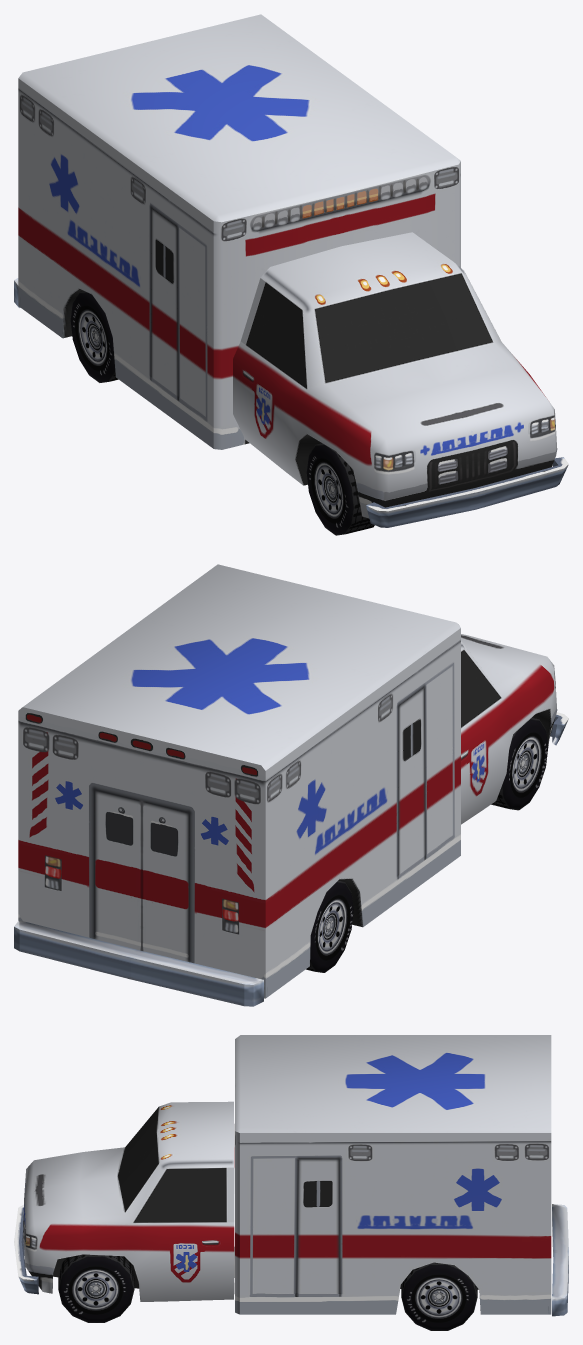
File: Ambulance.fbx
3 views of the same model, one above another, from view 1: azimuth 30°, elevation 25°; view 2: azimuth 150°, elevation 25°; view 3: azimuth 270°, elevation 25° (orthographic). The views are drawn at different scales.
Parts seen in each view (by area): view 1: Ambulancebody, WheelFR, WheelBR; view 2: Ambulancebody, WheelFR, WheelBR; view 3: Ambulancebody, WheelFL, WheelBL.
Boxes of the visible parts, x1,y1,x2,y2 form: Ambulancebody: [14, 14, 568, 527]; WheelFR: [306, 443, 374, 535]; WheelBR: [70, 291, 118, 382]; Ambulancebody: [14, 564, 568, 1006]; WheelFR: [491, 717, 548, 810]; WheelBR: [306, 880, 353, 972]; Ambulancebody: [14, 1035, 568, 1316]; WheelFL: [58, 1254, 134, 1322]; WheelBL: [401, 1262, 477, 1330].
Size of the model in its own units: 233 by 230 by 568.
